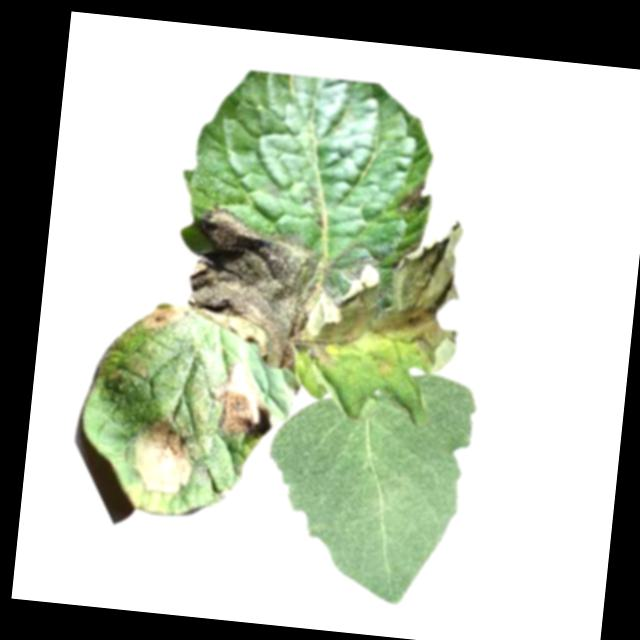Late_blight: (312, 205, 470, 378), (179, 205, 322, 372), (118, 410, 203, 498), (206, 357, 274, 440), (137, 302, 184, 334), (395, 174, 432, 214)
